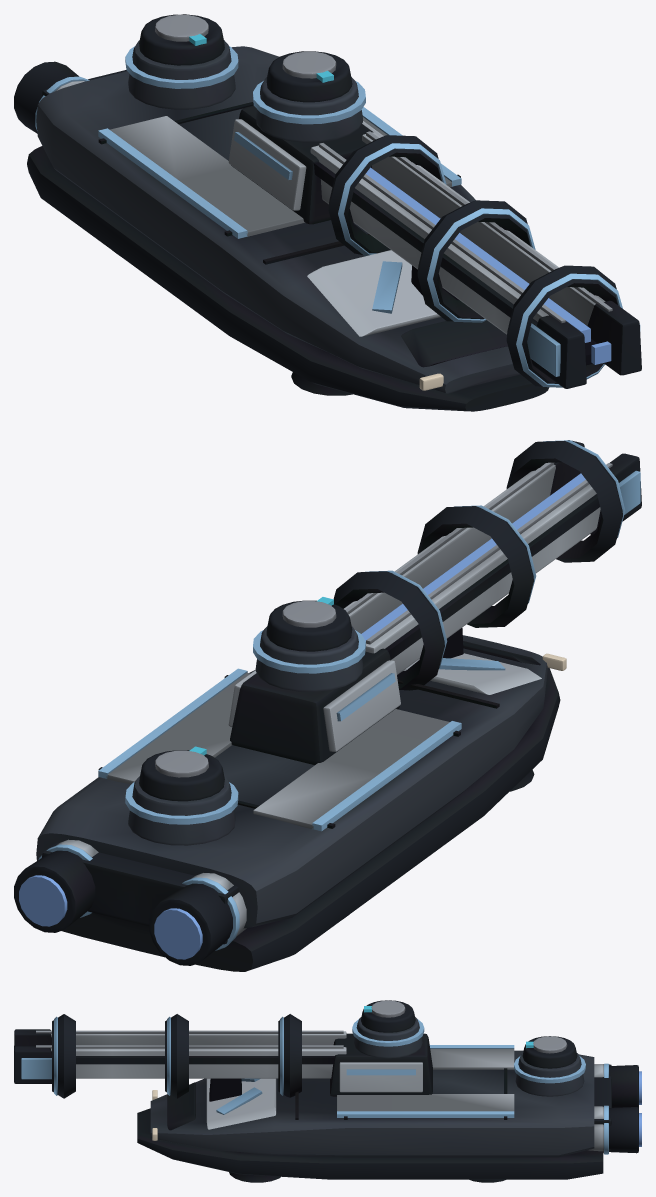
Rendered from ex_lancer_1.glb.
3 renders of one model, top to bottom at view 1: azimuth 30°, elevation 25°; view 2: azimuth 150°, elevation 25°; view 3: azimuth 270°, elevation 25°, orthographic. The views are drawn at different scales.
Visible parts, largest first — view 1: body; view 2: body; view 3: body.
Part boxes in pixels (x1=…): body: x1=14, y1=14, x2=641, y2=411; body: x1=14, y1=440, x2=641, y2=971; body: x1=14, y1=1000, x2=641, y2=1182.
Bounding box in the file's own units: 2.73 × 2.26 × 9.06.
